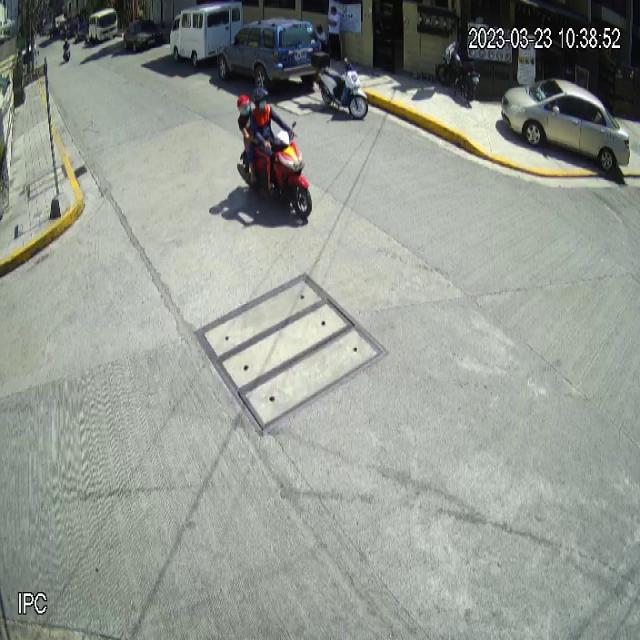Car: (500, 76, 632, 175), (216, 17, 322, 98)
Motorcycle: (236, 120, 314, 221), (311, 49, 371, 125)
Van: (169, 2, 244, 68)
